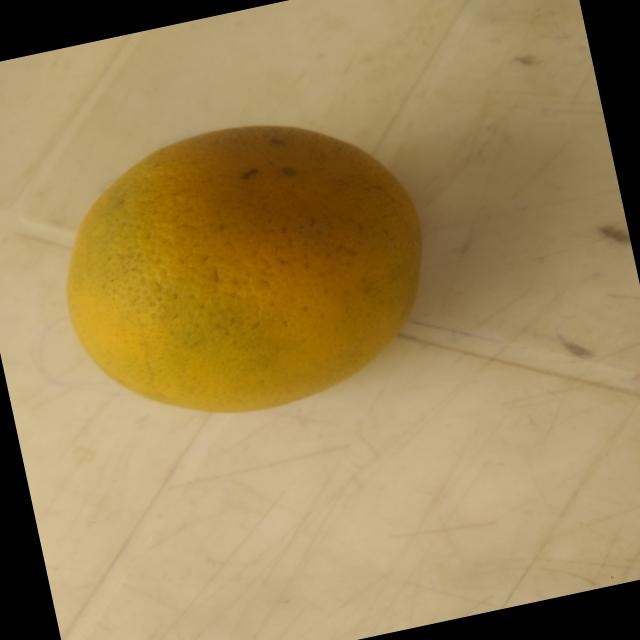agrume: (13, 68, 495, 472)
